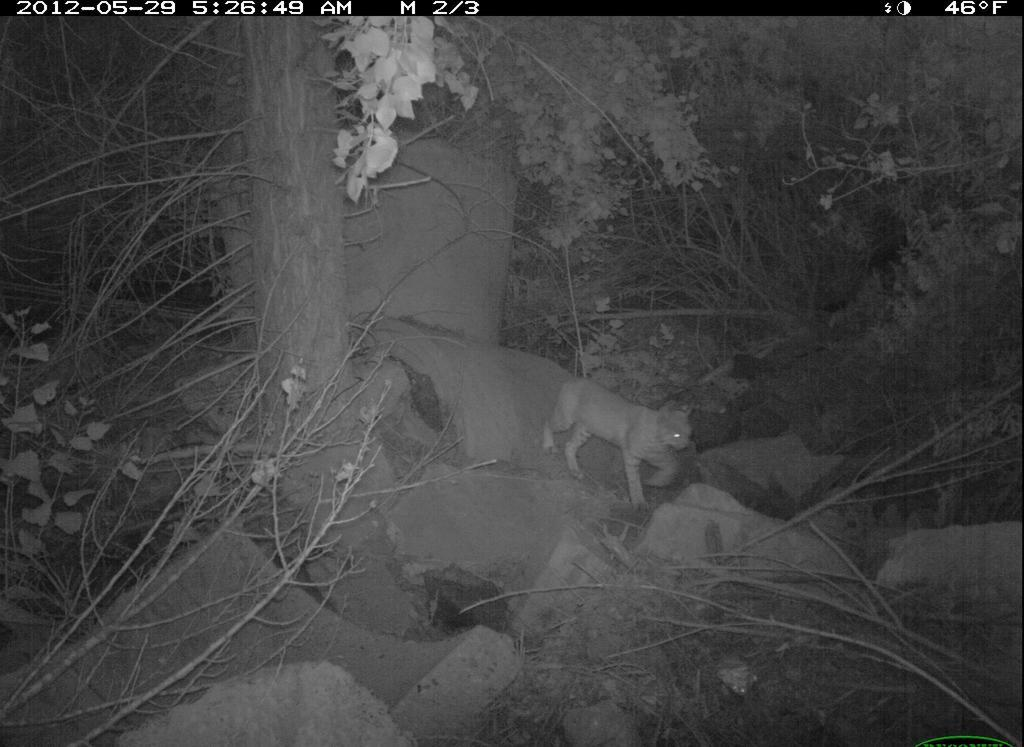bobcat: (537, 373, 697, 519)
